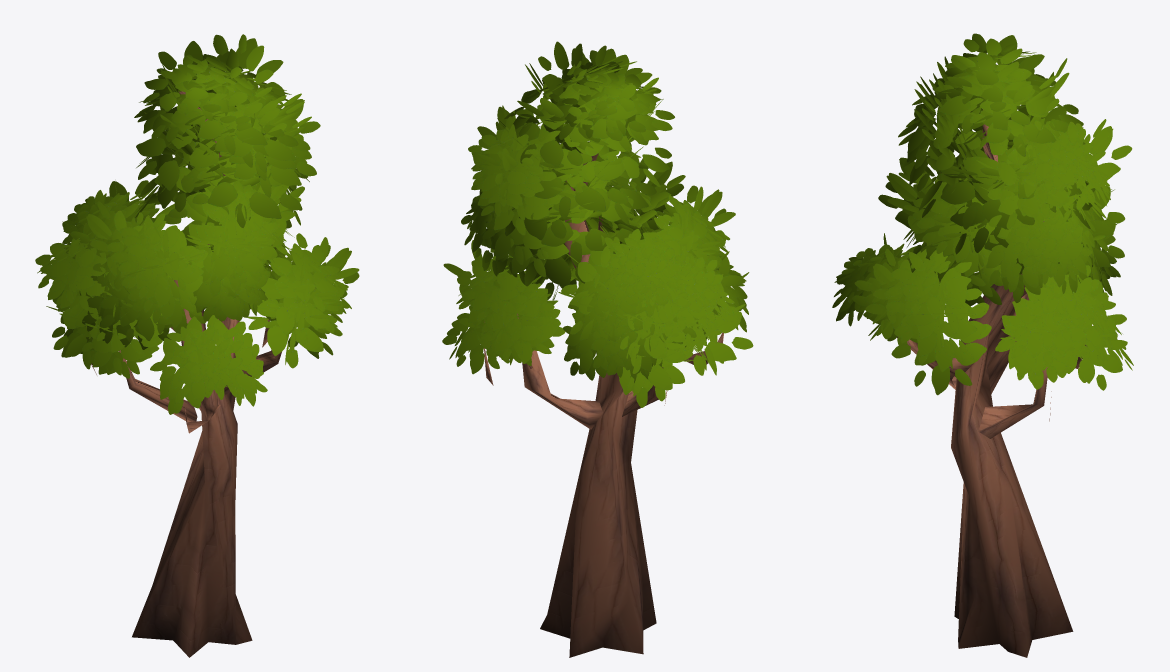
File: oak_2.glb
3 renders of one model, left to right at view 1: azimuth 30°, elevation 25°; view 2: azimuth 150°, elevation 25°; view 3: azimuth 270°, elevation 25°, orthographic. The views are drawn at different scales.
Visible parts, largest first — view 1: CommonTree_2; view 2: CommonTree_2; view 3: CommonTree_2.
Part boxes in pixels (box(x1,y1,x2,y2)): CommonTree_2: box(35, 34, 359, 657); CommonTree_2: box(442, 41, 753, 657); CommonTree_2: box(832, 33, 1133, 657).
Size of the model in its own units: 4.31 by 7.62 by 3.96.
Materials: 2 (2 with a texture image).
